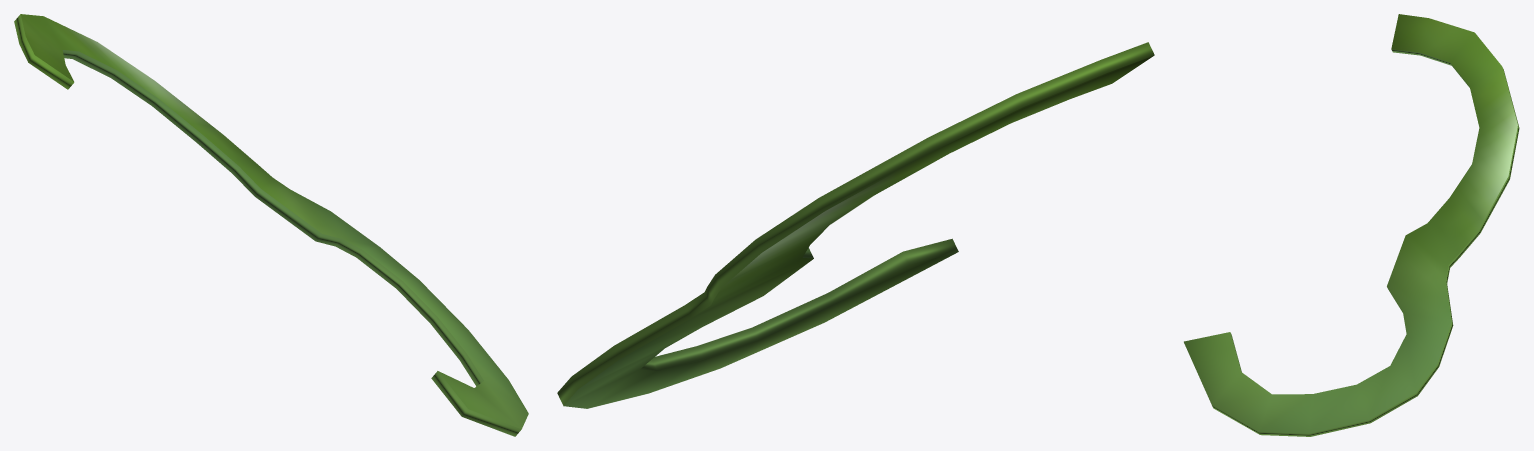
The model's file is green_bellpepper.glb.
The picture shows the model from 3 angles, left to right: view 1: azimuth 30°, elevation 25°; view 2: azimuth 150°, elevation 25°; view 3: azimuth 270°, elevation 25°; orthographic projection. The views are drawn at different scales.
Visible parts, largest first — view 1: pepper.005; view 2: pepper.005; view 3: pepper.005.
Part boxes in pixels (left/top/right/bottom): pepper.005: left=14, top=14, right=528, bottom=436; pepper.005: left=557, top=42, right=1154, bottom=408; pepper.005: left=1184, top=14, right=1519, bottom=436.
Bounding box in the file's own units: 2.36 × 2.11 × 2.28.
1 material, 1 textured.
